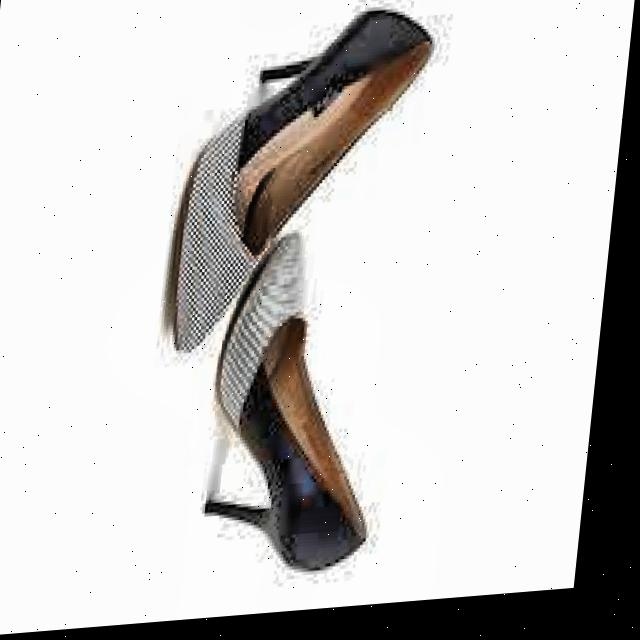shoes: (123, 0, 526, 615)
